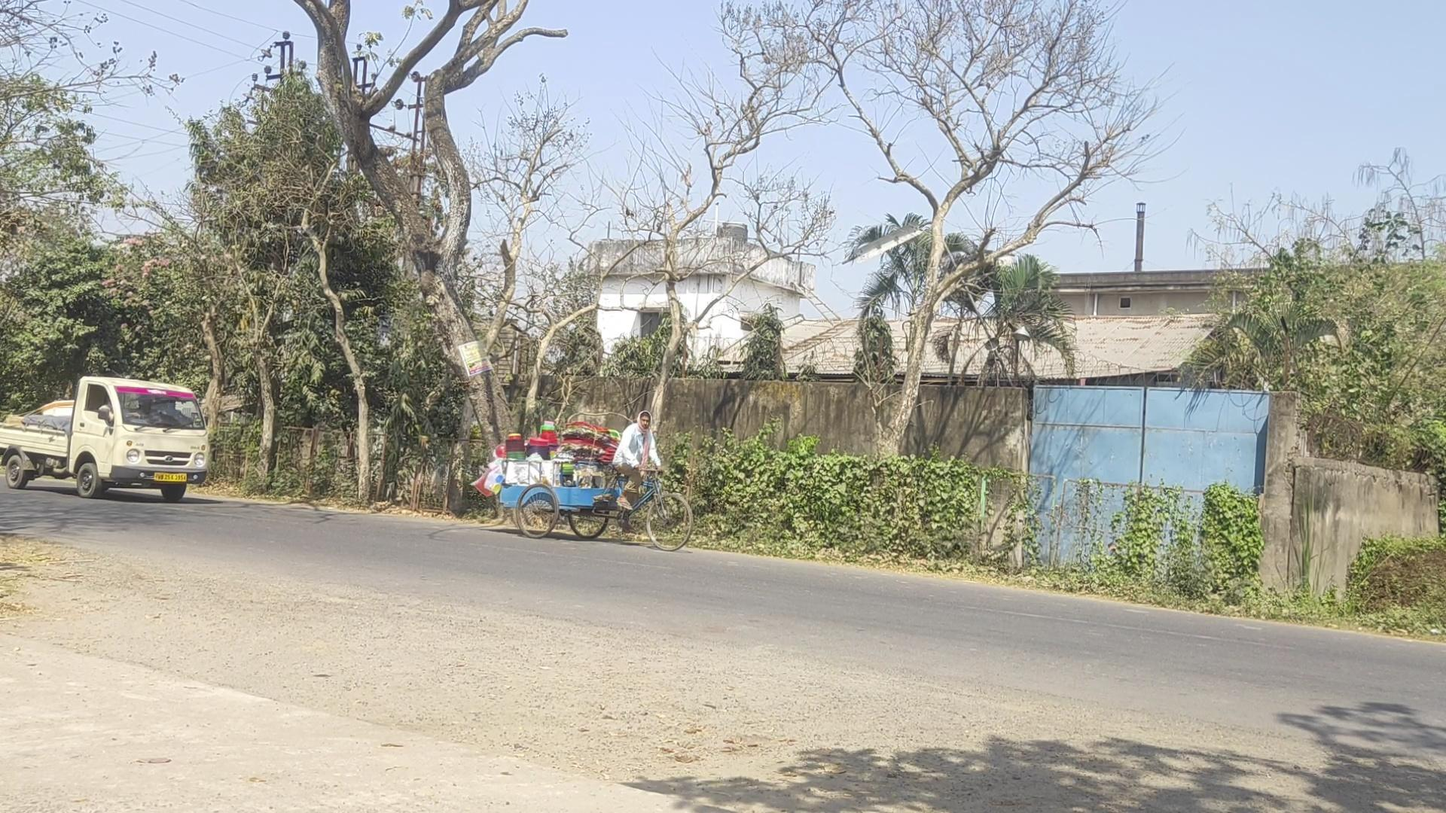van: (1, 376, 209, 501)
